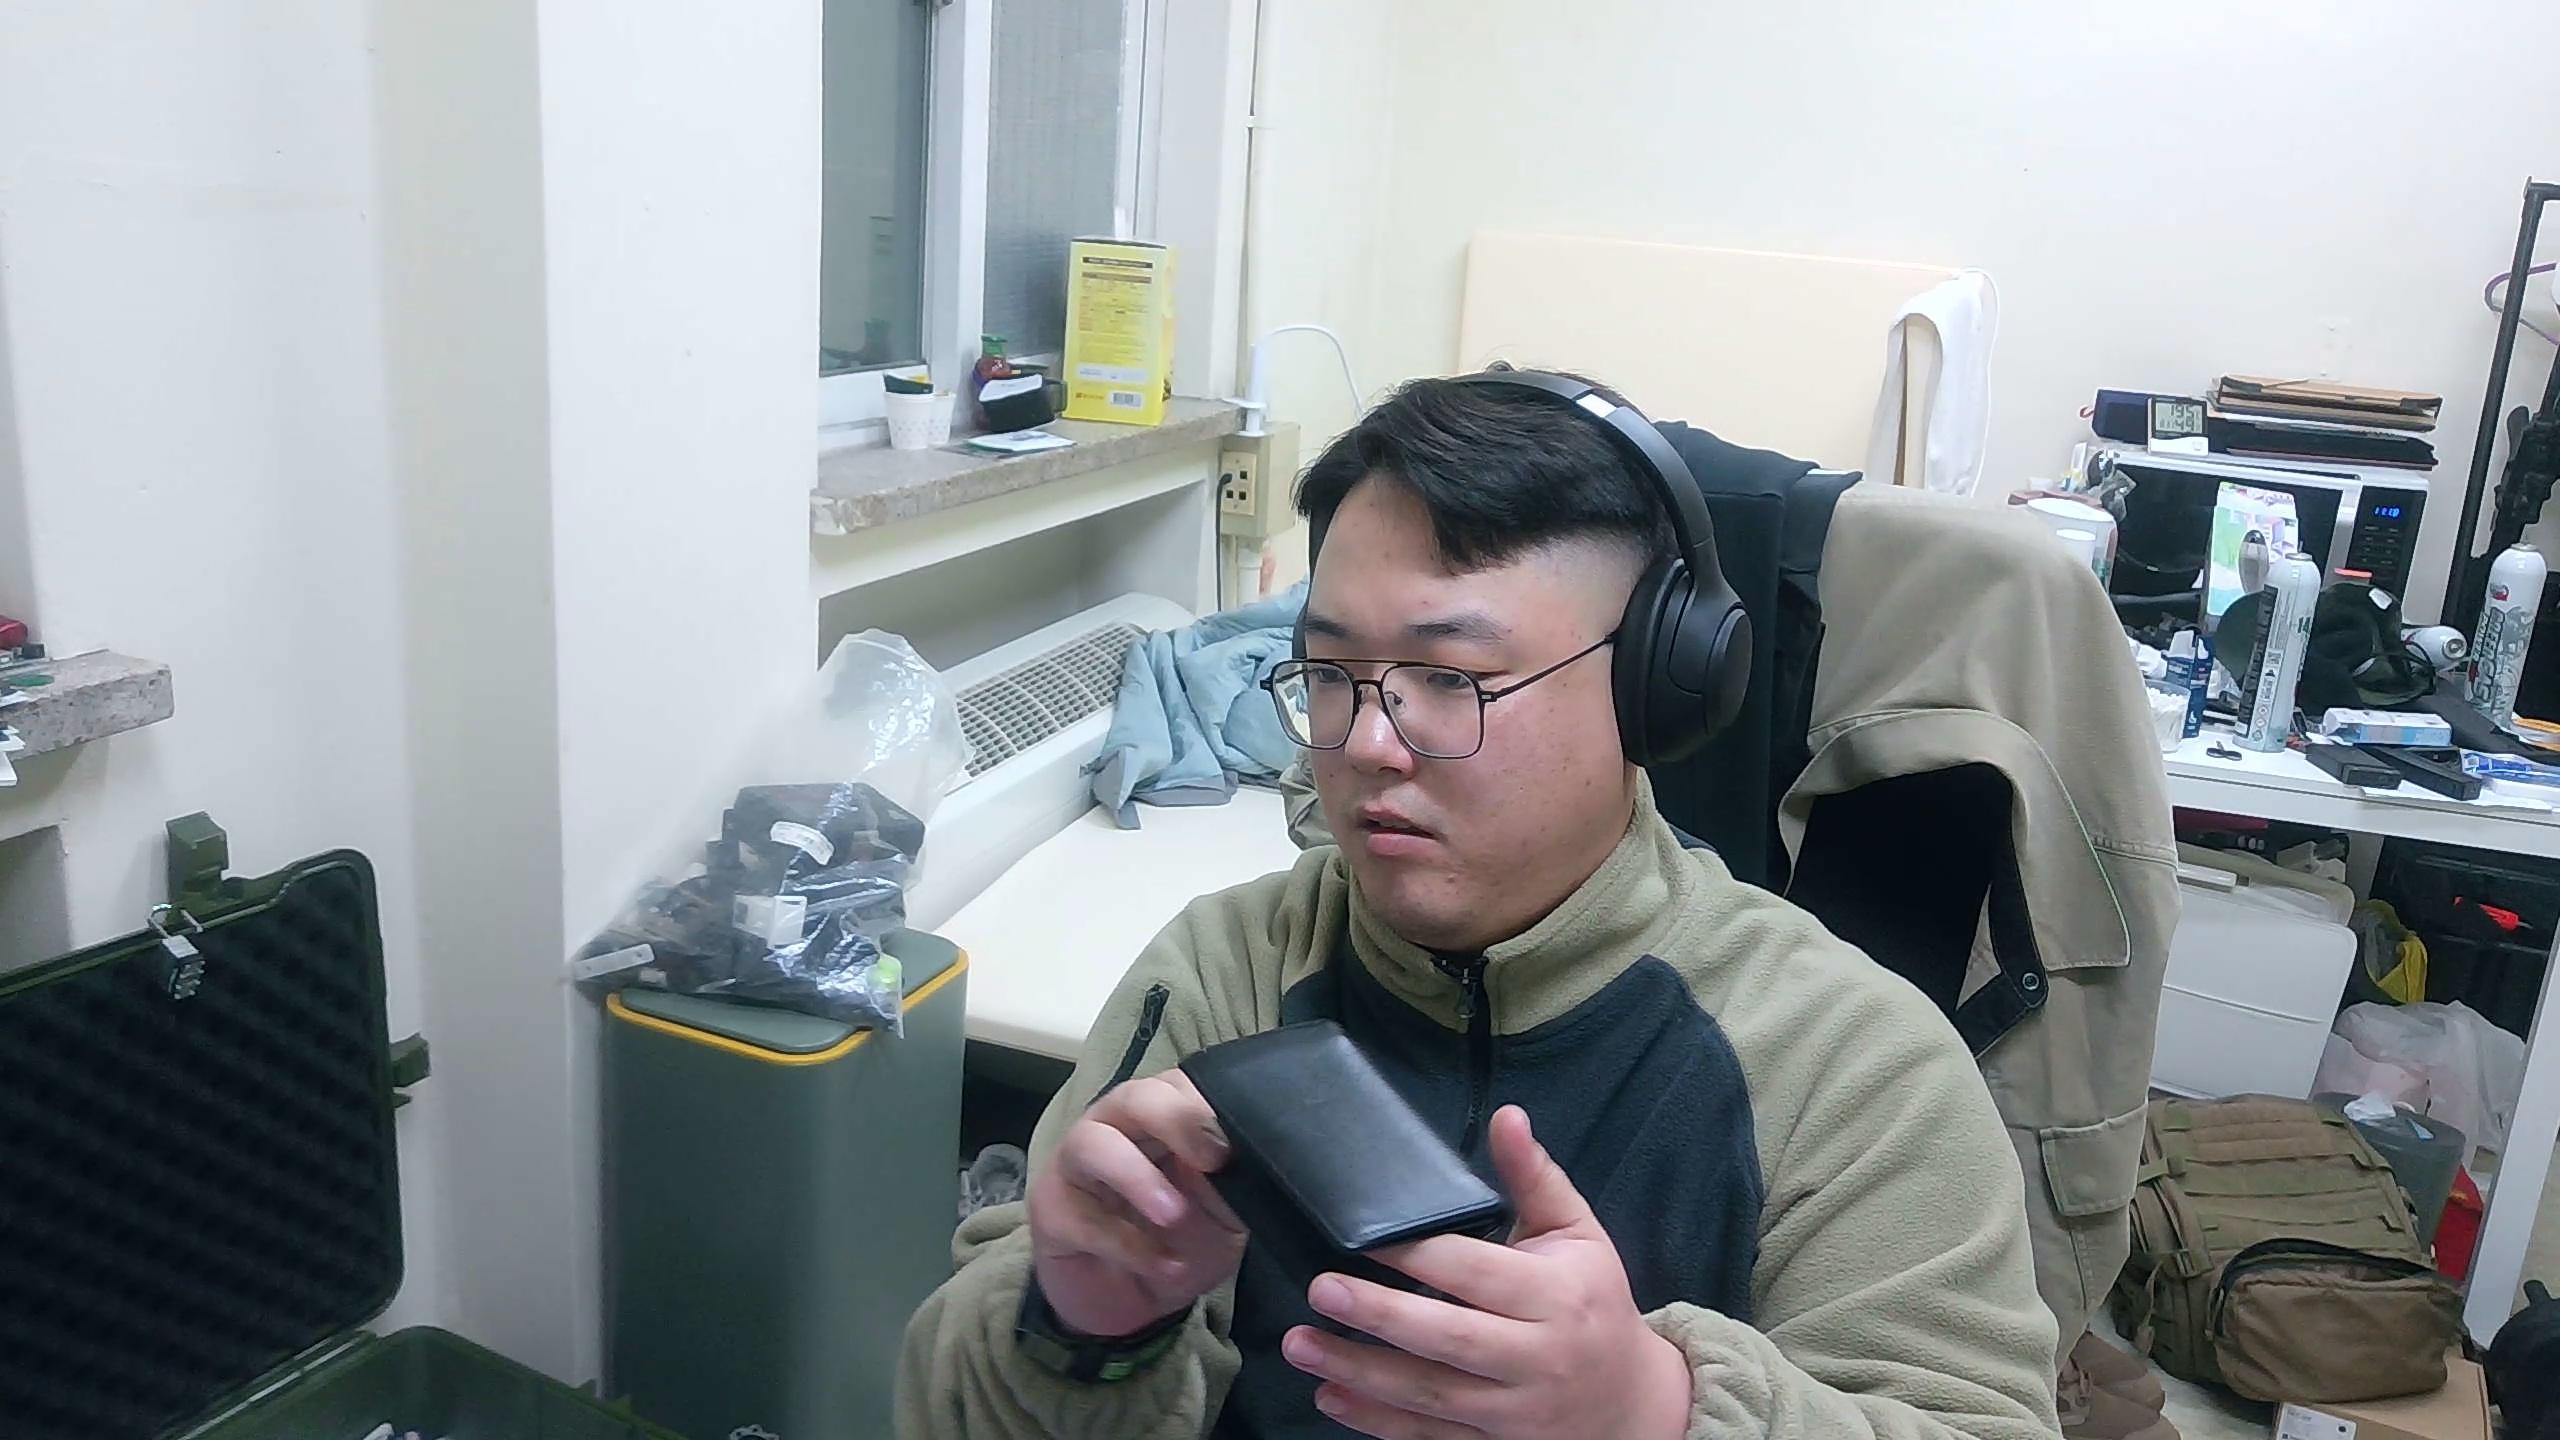Wallet: (1178, 1015, 1517, 1262)
